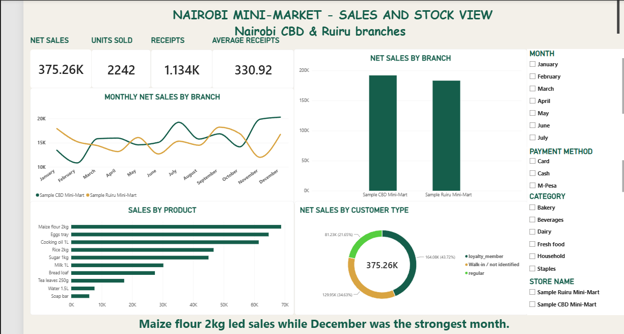

What the dashboard file says about the page in this screenshot:
{"tool":"powerbi","page":{"name":"SALES","canvas":[1920,1080],"ordinal":0},"visuals":[{"type":"cardVisual","title":"NET SALES","fields":{"Data":["Sum(Sales.net_sales_kes)"]},"box":[22,175.7,195.6,167.2],"z":0},{"type":"cardVisual","title":"UNITS SOLD","fields":{"Data":["Sum(Sales.quantity)"]},"box":[217.1,175.7,189.9,167.2],"z":1000},{"type":"cardVisual","title":"RECEIPTS","fields":{"Data":["Count(Sales.transaction_id)"]},"box":[407.4,178.1,196,167],"z":2000},{"type":"cardVisual","title":"AVERAGE RECEIPTS","fields":{"Data":["Sales.Average Receipt (KES)"]},"box":[602.6,178.1,261.1,168.3],"z":3000},{"type":"textbox","box":[17.1,22,1903.1,114.7],"z":4000},{"type":"lineChart","title":"MONTHLY NET SALES BY BRANCH","fields":{"Category":["Sales.sale_month.Variation.Date Hierarchy.Month"],"Series":["Sales.store_name"],"Y":["Sum(Sales.net_sales_kes)"]},"box":[22,344,841.7,373.3],"z":5000},{"type":"clusteredBarChart","title":"SALES BY PRODUCT","fields":{"Category":["Sales.product_name"],"Y":["Sum(Sales.net_sales_kes)"]},"box":[22,717.3,841.7,363.5],"z":6000},{"type":"clusteredColumnChart","title":"NET SALES BY BRANCH","fields":{"Category":["Sales.store_name"],"Y":["Sum(Sales.net_sales_kes)"]},"box":[863.7,226.9,744.1,490.4],"z":7000},{"type":"donutChart","title":"NET SALES BY CUSTOMER TYPE","fields":{"Category":["Sales.customer_type"],"Y":["Sum(Sales.net_sales_kes)"]},"box":[863.7,717.3,744.1,363.5],"z":8000},{"type":"slicer","fields":{"Values":["Sales.sale_month.Variation.Date Hierarchy.Month"]},"box":[1607.8,226.9,312.3,317.2],"z":9000},{"type":"slicer","fields":{"Values":["Sales.category"]},"box":[1607.8,688,312.3,270.8],"z":10000},{"type":"slicer","fields":{"Values":["Sales.store_name"]},"box":[1607.8,958.8,312.3,122],"z":11000},{"type":"slicer","fields":{"Values":["Sales.payment_method"]},"box":[1607.8,544.1,312.3,143.9],"z":12000}]}

Visuals, with their boxes on the page's 1920x1080 design canvas (x1, y1, x2, y2). These are canvas units, not pixel positions in the 624x334 screenshot, which may show the page scaled, cropped or inside an application window:
"NET SALES" cardVisual: <region>22, 176, 218, 343</region>
"UNITS SOLD" cardVisual: <region>217, 176, 407, 343</region>
"RECEIPTS" cardVisual: <region>407, 178, 603, 345</region>
"AVERAGE RECEIPTS" cardVisual: <region>603, 178, 864, 346</region>
textbox: <region>17, 22, 1920, 137</region>
"MONTHLY NET SALES BY BRANCH" lineChart: <region>22, 344, 864, 717</region>
"SALES BY PRODUCT" clusteredBarChart: <region>22, 717, 864, 1081</region>
"NET SALES BY BRANCH" clusteredColumnChart: <region>864, 227, 1608, 717</region>
"NET SALES BY CUSTOMER TYPE" donutChart: <region>864, 717, 1608, 1081</region>
slicer - Sales.sale_month.Variation.Date Hierarchy.Month: <region>1608, 227, 1920, 544</region>
slicer - Sales.category: <region>1608, 688, 1920, 959</region>
slicer - Sales.store_name: <region>1608, 959, 1920, 1081</region>
slicer - Sales.payment_method: <region>1608, 544, 1920, 688</region>
